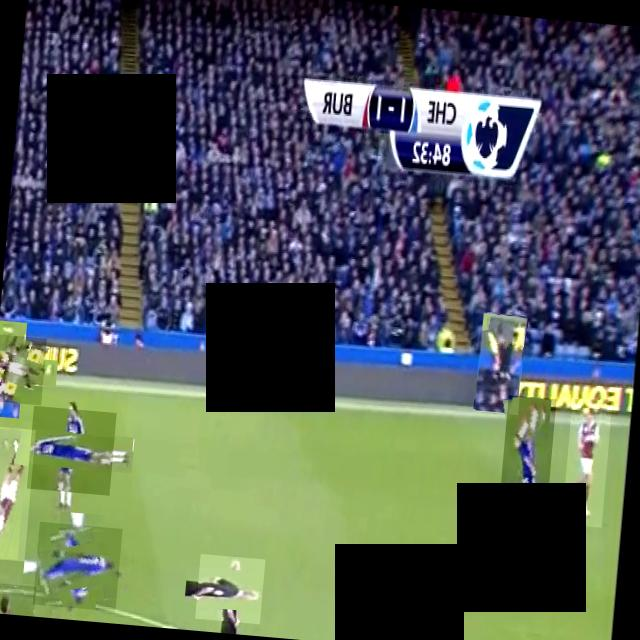referee: (474, 312, 526, 414), (194, 554, 264, 624)
soccer-player: (32, 522, 122, 612), (26, 406, 116, 496), (498, 394, 556, 516), (561, 398, 612, 528), (0, 426, 35, 561), (0, 334, 46, 405), (0, 582, 35, 616)
